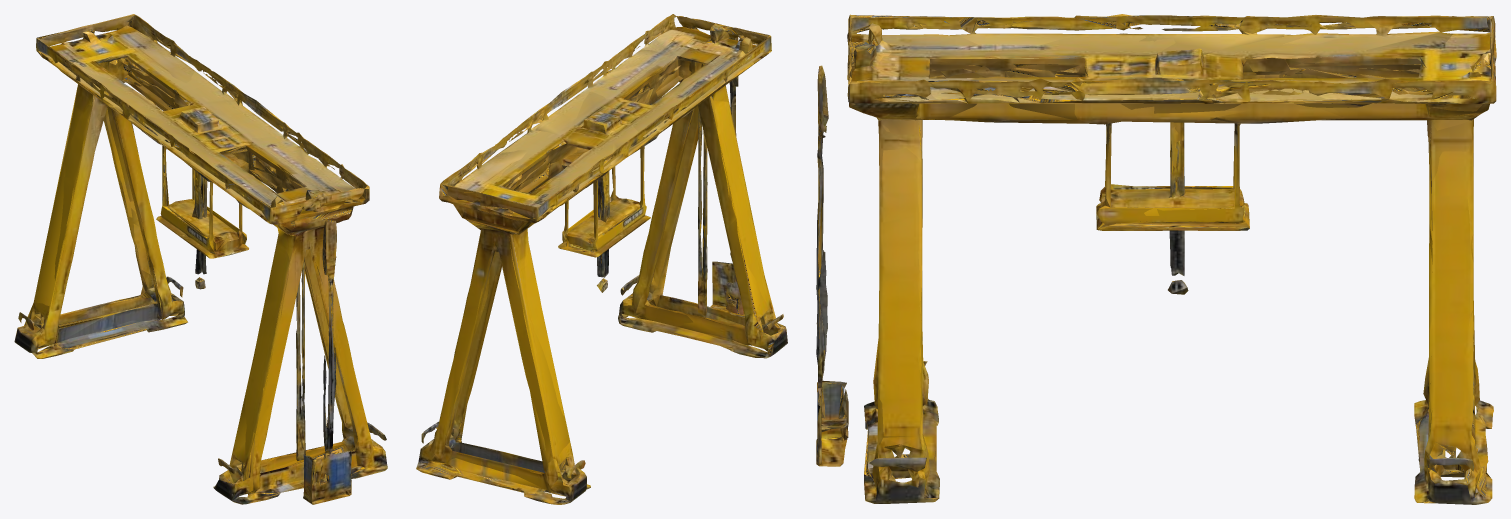
Rendered from cargo_gantry_crane.glb.
3 views of the same model, side by side, from view 1: azimuth 30°, elevation 25°; view 2: azimuth 150°, elevation 25°; view 3: azimuth 270°, elevation 25° (orthographic). The views are drawn at different scales.
Visible parts, largest first — view 1: turn, mesh_lod; view 2: turn, mesh_lod; view 3: turn, mesh_lod.
Boxes of the visible parts, bbox=[...] form: turn: bbox=[14, 14, 387, 504]; mesh_lod: bbox=[15, 14, 387, 504]; turn: bbox=[416, 14, 787, 504]; mesh_lod: bbox=[419, 18, 785, 502]; turn: bbox=[816, 14, 1496, 504]; mesh_lod: bbox=[816, 15, 1496, 503].
Bounding box in the file's own units: 3.3 × 6 × 9.04.
Materials: 1 (1 with a texture image).
